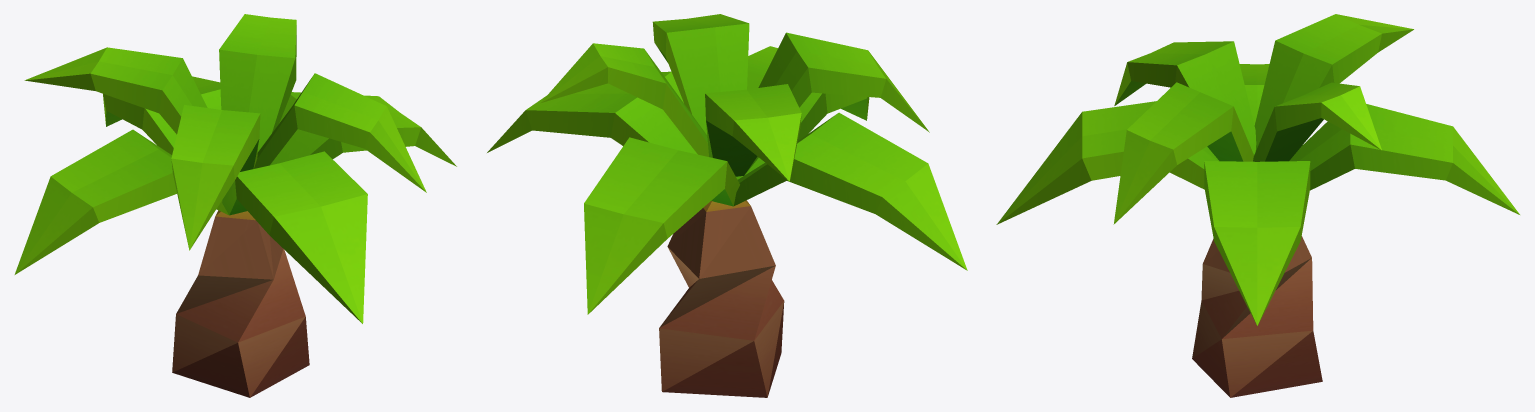
File: GL-Palmtree-06-LOD2.fbx
The picture shows the model from 3 angles, left to right: view 1: azimuth 30°, elevation 25°; view 2: azimuth 150°, elevation 25°; view 3: azimuth 270°, elevation 25°; orthographic projection. The views are drawn at different scales.
Visible parts, largest first — view 1: GL_Palmtree_06; view 2: GL_Palmtree_06; view 3: GL_Palmtree_06.
Part boxes in pixels (x1=…): GL_Palmtree_06: x1=14, y1=14, x2=456, y2=397; GL_Palmtree_06: x1=487, y1=14, x2=967, y2=397; GL_Palmtree_06: x1=996, y1=14, x2=1519, y2=397.
Size of the model in its own units: 2.46 by 1.63 by 2.47.
